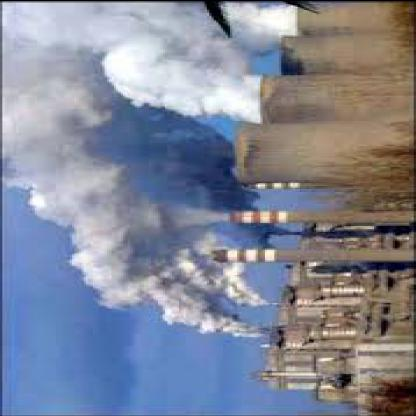Smoke: (66, 30, 268, 118), (79, 186, 149, 276)
